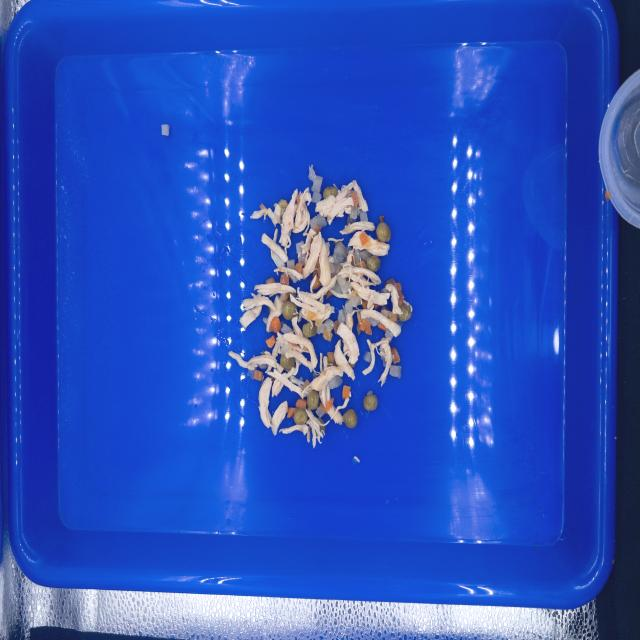Carrot: (384, 278, 404, 307), (357, 312, 372, 335), (269, 317, 281, 333), (390, 347, 400, 364), (265, 335, 276, 348), (310, 270, 320, 284), (359, 231, 368, 246), (287, 407, 298, 419), (323, 329, 333, 342), (296, 398, 307, 409), (388, 310, 399, 321), (342, 385, 350, 400), (325, 398, 334, 411), (313, 277, 322, 289), (352, 192, 359, 207), (254, 370, 263, 381), (280, 274, 289, 285), (327, 352, 335, 364), (302, 379, 310, 391), (316, 257, 321, 276), (378, 322, 387, 332), (307, 311, 316, 321), (333, 320, 339, 334), (320, 403, 327, 414), (356, 261, 367, 268), (295, 263, 302, 274), (356, 322, 361, 336), (266, 277, 276, 284), (282, 293, 289, 301), (315, 319, 322, 326), (362, 301, 368, 309), (315, 225, 321, 233), (327, 291, 333, 299), (374, 303, 379, 310), (297, 195, 300, 204), (380, 216, 384, 222)
Chicken_Shred: (267, 309, 364, 408), (274, 232, 337, 328), (336, 249, 402, 337), (228, 316, 317, 378), (239, 283, 296, 333), (315, 180, 368, 225), (279, 407, 330, 449), (339, 221, 390, 256), (258, 377, 288, 436), (292, 188, 317, 255), (362, 337, 392, 386), (279, 189, 298, 254), (261, 229, 288, 267), (249, 203, 281, 227), (327, 397, 349, 425), (385, 284, 402, 314), (328, 238, 344, 242)
Peas: (282, 300, 297, 320), (376, 223, 391, 242), (343, 409, 357, 428), (363, 395, 378, 411), (307, 390, 319, 410), (294, 408, 308, 425), (366, 256, 380, 272), (303, 321, 317, 337), (280, 354, 294, 370), (399, 303, 411, 321), (323, 187, 338, 199), (279, 199, 288, 216), (317, 418, 324, 424), (320, 425, 325, 432), (315, 429, 318, 437), (322, 431, 323, 434)
Potato_White: (332, 242, 352, 264), (308, 165, 323, 193), (331, 275, 352, 294), (309, 214, 327, 230), (316, 319, 335, 334), (277, 337, 292, 355), (354, 249, 370, 264), (346, 291, 361, 307), (328, 375, 343, 389), (337, 305, 347, 325), (329, 263, 342, 278), (389, 365, 401, 379), (365, 317, 380, 327), (385, 328, 394, 342), (350, 204, 358, 219), (315, 406, 325, 418), (281, 324, 292, 334), (359, 209, 368, 221), (363, 351, 372, 363), (296, 240, 304, 253), (345, 300, 353, 313), (289, 273, 299, 283), (312, 192, 321, 203), (298, 253, 306, 264), (287, 259, 295, 270), (381, 310, 390, 318), (258, 364, 269, 368)
